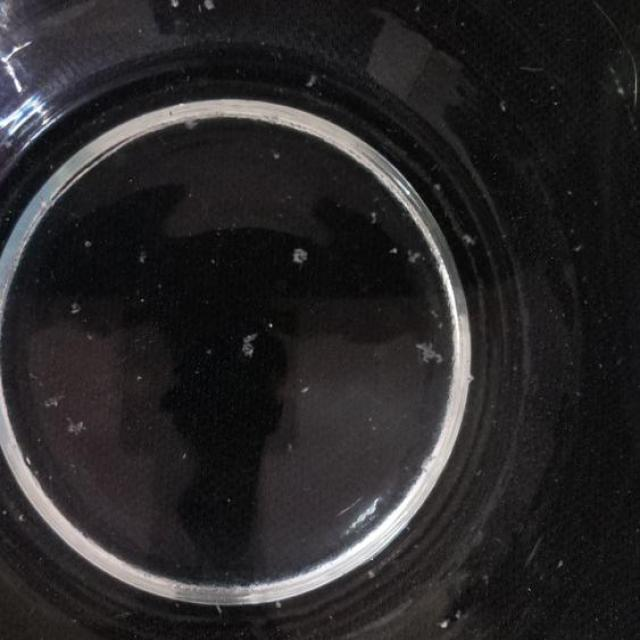fiber: (235, 326, 264, 366), (402, 243, 431, 271), (420, 336, 446, 365), (457, 225, 477, 258), (284, 247, 315, 266), (156, 0, 184, 18), (38, 393, 62, 414), (436, 612, 454, 633), (74, 237, 98, 252), (184, 113, 201, 134), (134, 250, 155, 267), (199, 0, 224, 14), (267, 143, 284, 163), (65, 420, 83, 438), (68, 298, 82, 321), (428, 179, 446, 195)
